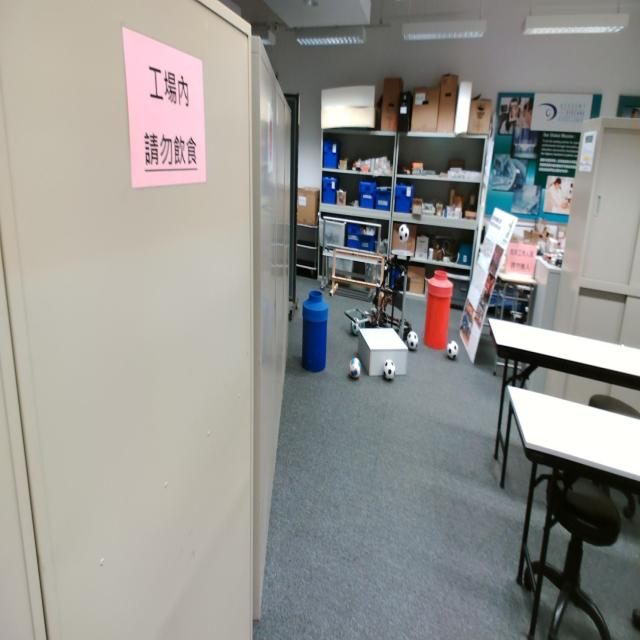ball: (382, 357, 397, 383), (348, 356, 362, 380), (446, 338, 460, 361), (406, 329, 419, 352), (398, 222, 410, 245), (350, 316, 362, 337)
